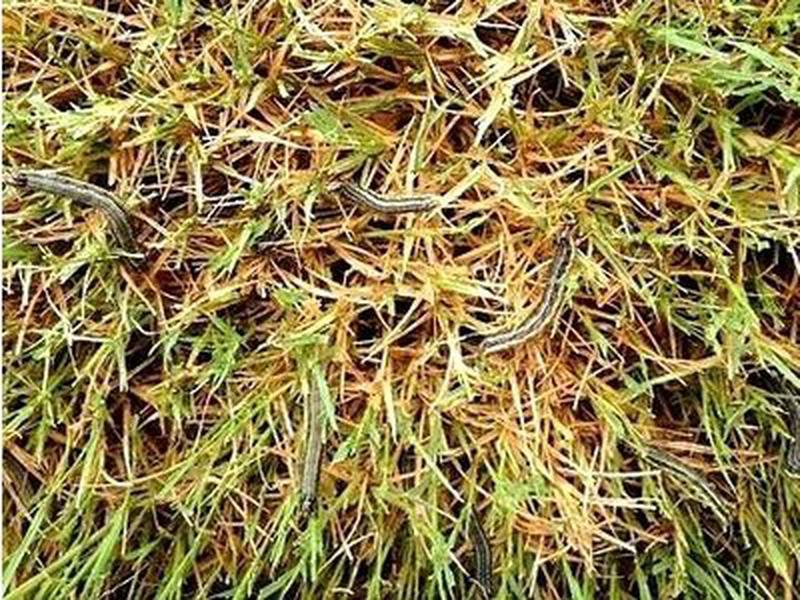Armyworms: (255, 351, 354, 525), (9, 157, 148, 270), (476, 221, 587, 358), (414, 489, 527, 590), (307, 165, 446, 226)
